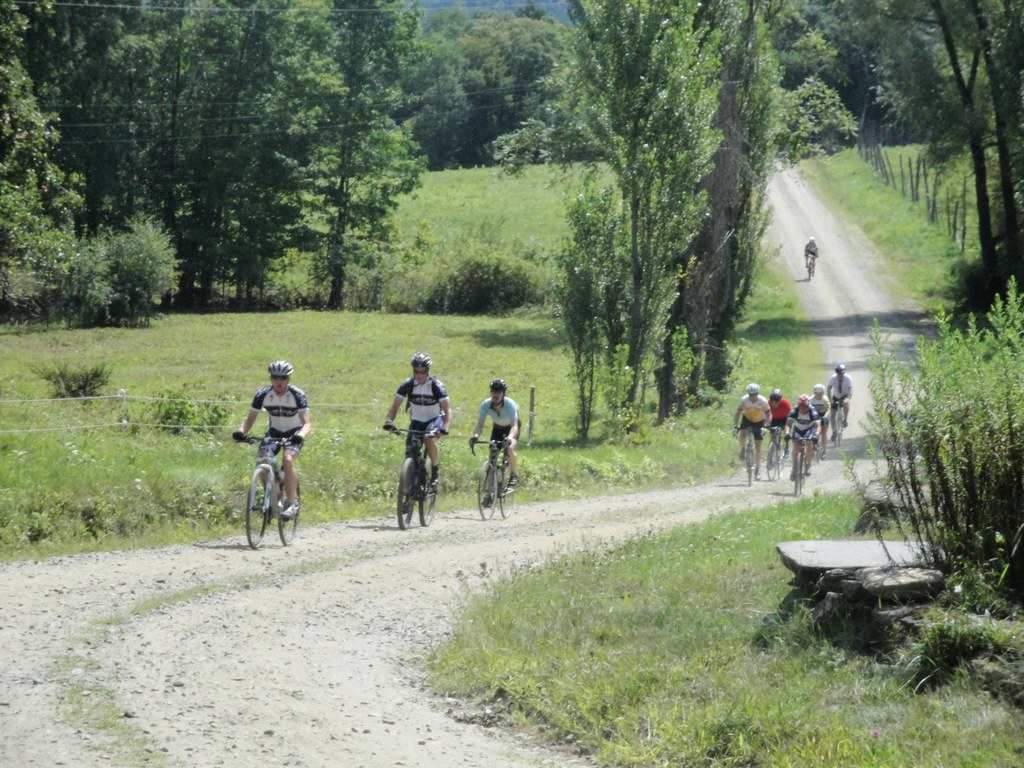Bike_toward: (234, 429, 304, 552), (381, 420, 450, 531), (468, 433, 517, 521), (731, 421, 773, 487), (781, 433, 812, 497)
